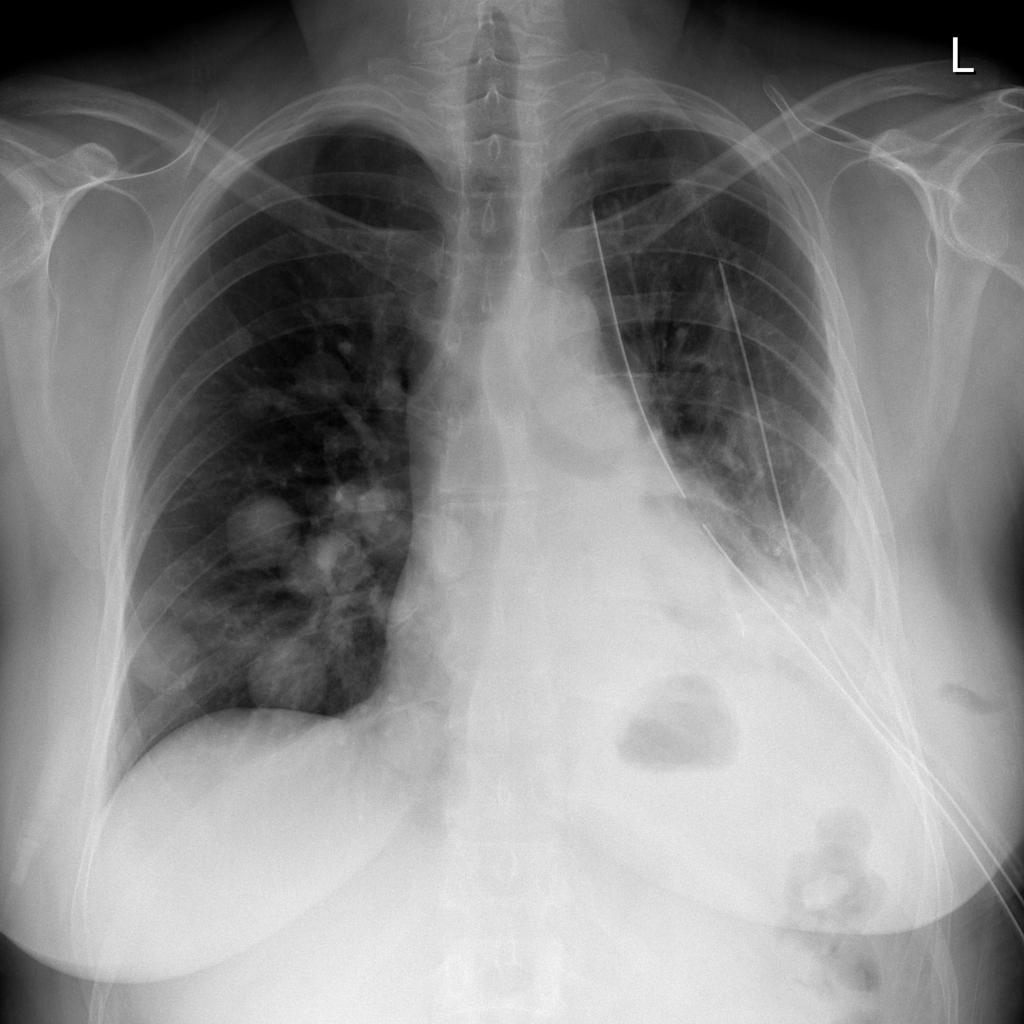nodule: (280, 496, 399, 617), (236, 624, 346, 735), (113, 608, 226, 712), (219, 486, 306, 569), (375, 696, 451, 787), (344, 473, 421, 551), (412, 499, 482, 583), (281, 339, 358, 413), (229, 376, 290, 429), (164, 380, 215, 433)
